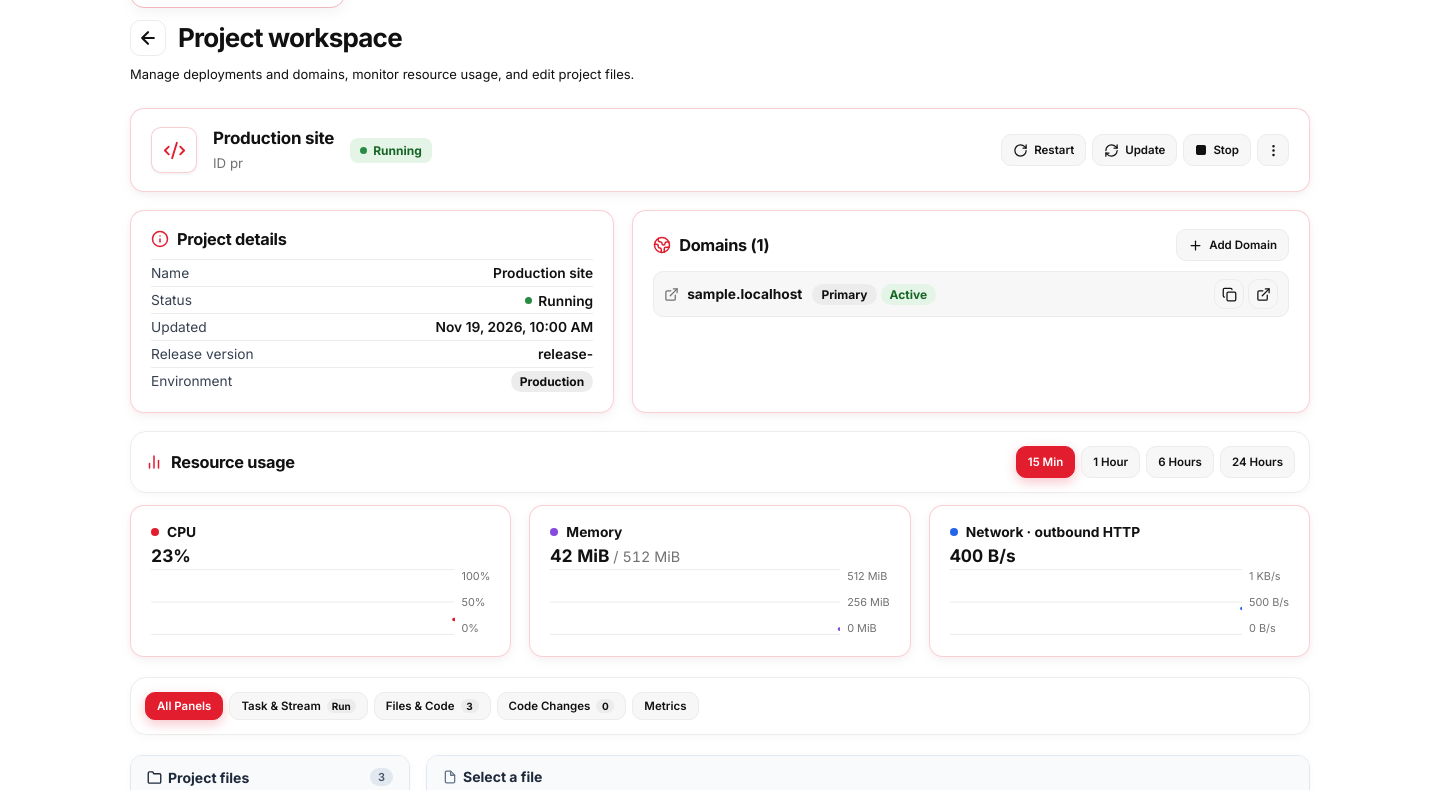
Test: ignores a stale file response and saves the selected file with its own revision
Later steps or results of the test are not shown.
Click the tab "Files & Code 3" at (432, 706), box [374, 692, 491, 720]
(page scrolled)
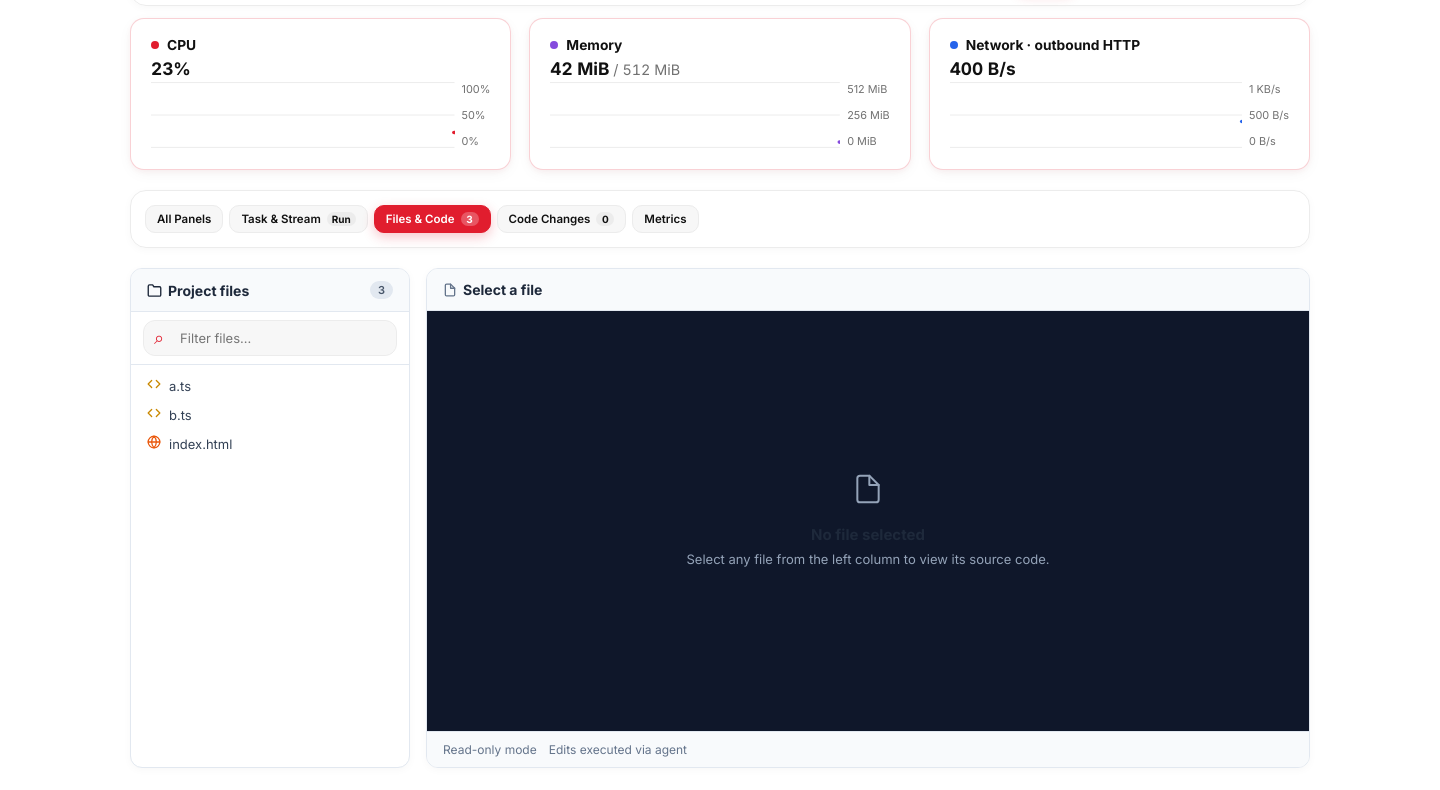
Click the button with class "code-file-tree-item" showing "a.ts" at (154, 384), box [137, 371, 403, 400]
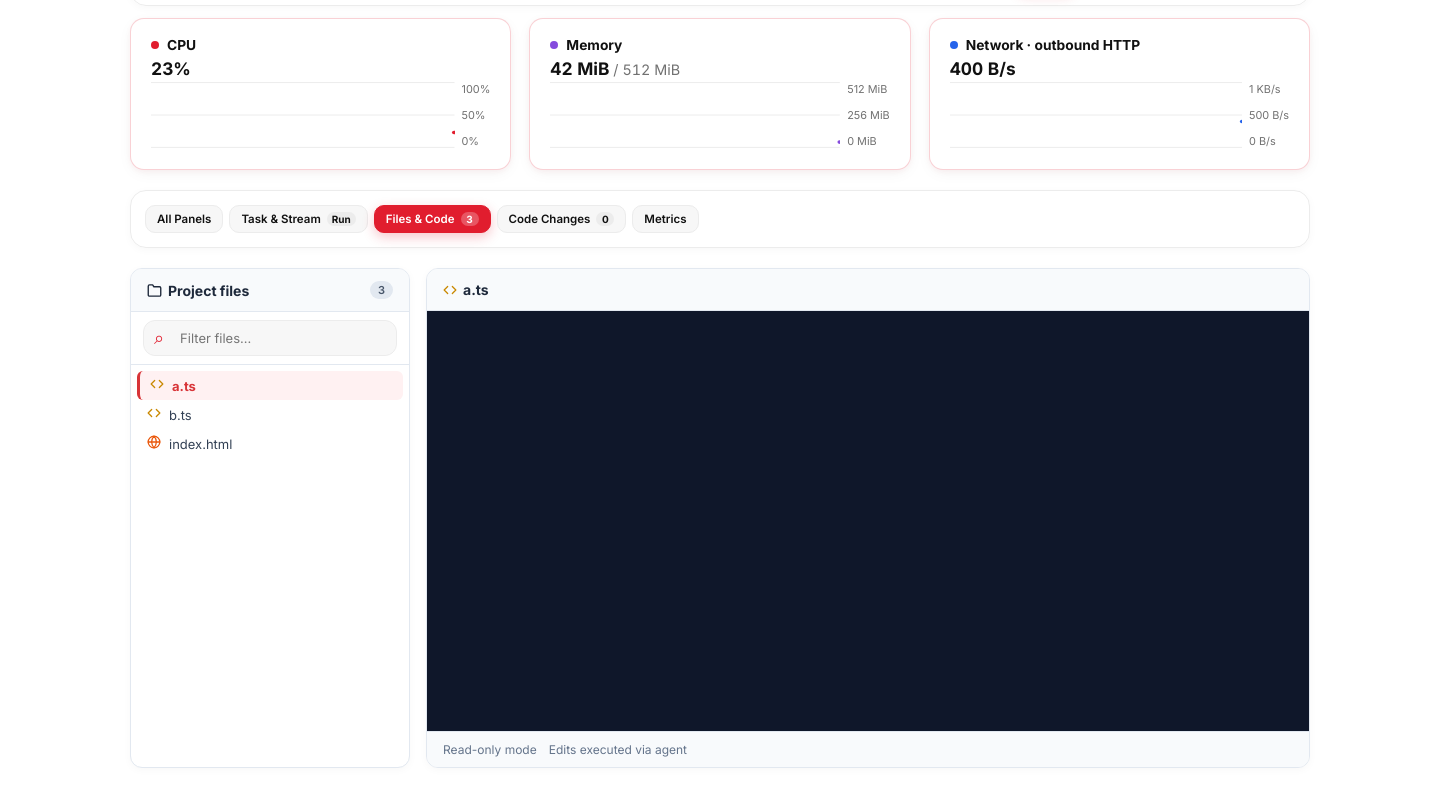
Click the button with class "code-file-tree-item" showing "b.ts" at (154, 413), box [137, 400, 403, 429]
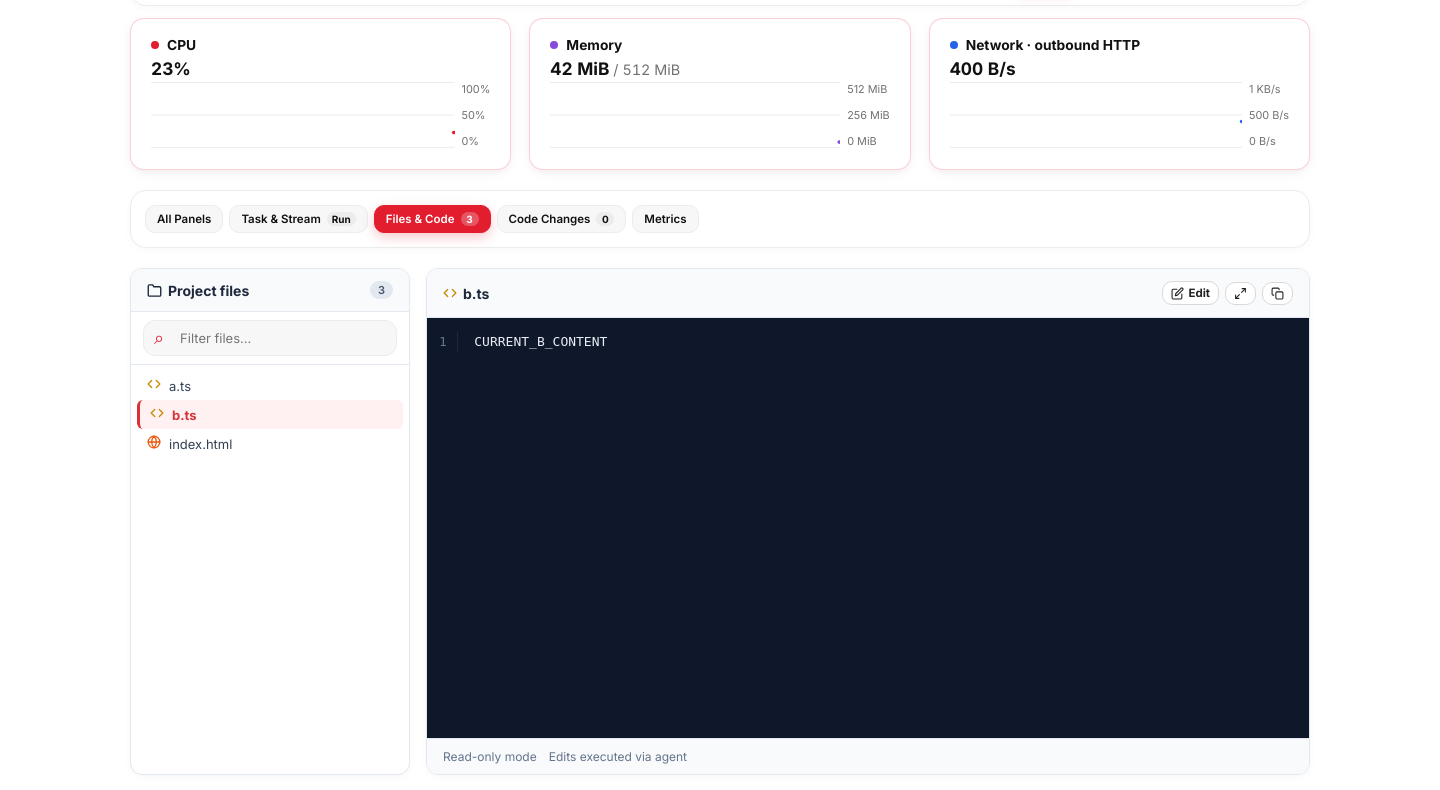
Check: the text with class "code-line" reads "CURRENT_B_CONTENT", box [474, 334, 607, 349]
